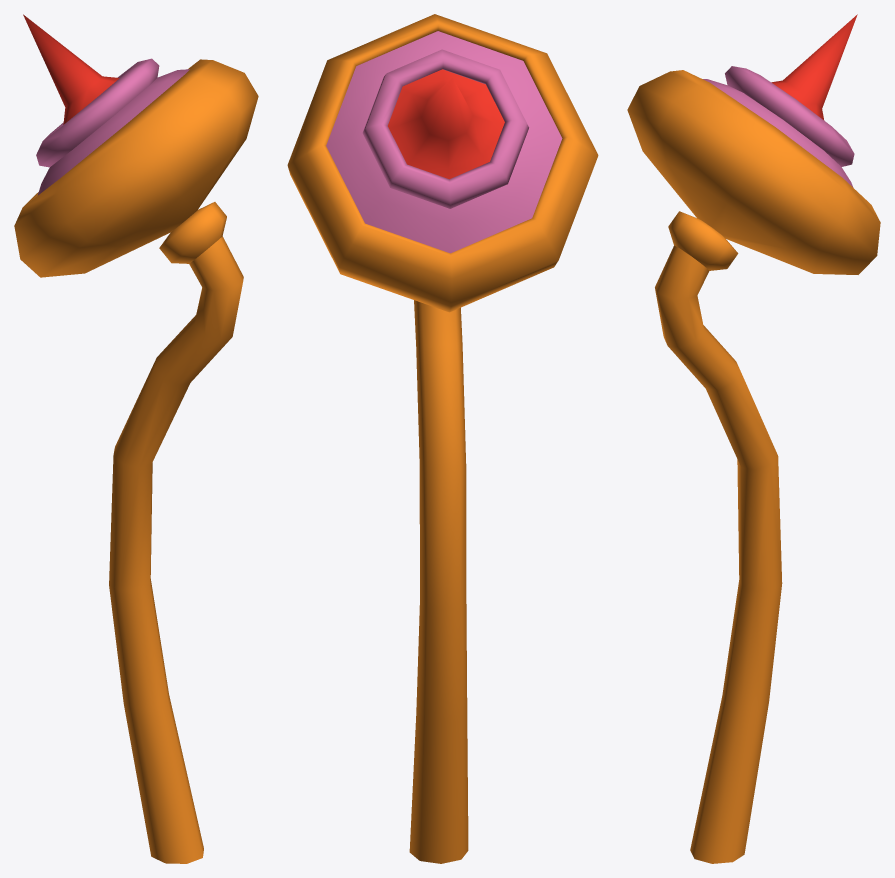
The model's file is Plant_1_4_yellow.fbx.
The picture shows the model from 3 angles, left to right: view 1: azimuth 30°, elevation 25°; view 2: azimuth 150°, elevation 25°; view 3: azimuth 270°, elevation 25°; orthographic projection. The views are drawn at different scales.
Visible parts, largest first — view 1: Plant_1_4_yellow; view 2: Plant_1_4_yellow; view 3: Plant_1_4_yellow.
Part boxes in pixels (box(x1,y1,x2,y2)): Plant_1_4_yellow: box(14, 14, 258, 863); Plant_1_4_yellow: box(287, 14, 598, 863); Plant_1_4_yellow: box(627, 14, 880, 863).
Bounding box in the file's own units: 0.6175 × 2.09 × 0.6002.
